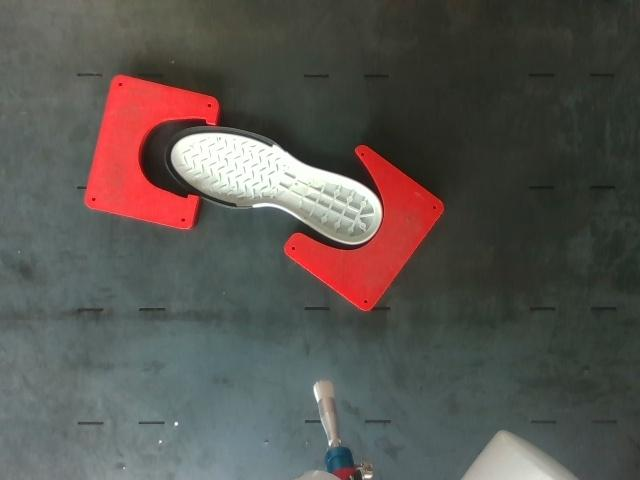shoes: (165, 127, 381, 243)
